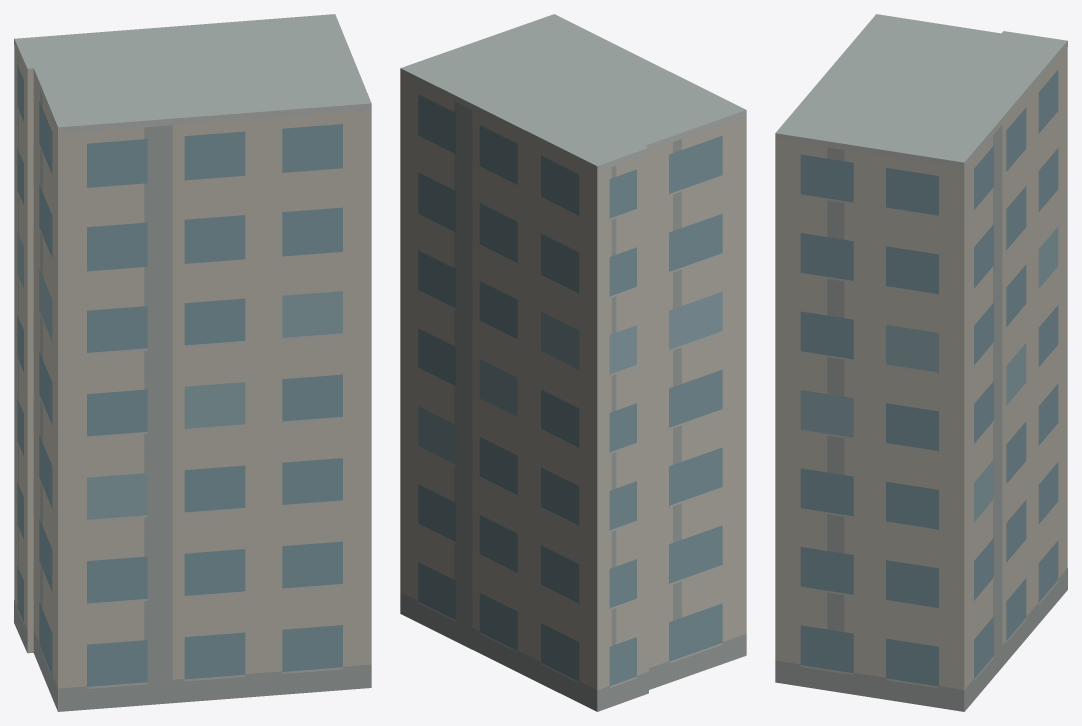
Rendered from survey-upis-32910097.glb.
The picture shows the model from 3 angles, left to right: view 1: azimuth 30°, elevation 25°; view 2: azimuth 150°, elevation 25°; view 3: azimuth 270°, elevation 25°; orthographic projection. The views are drawn at different scales.
Parts seen in each view (by area): view 1: survey-upis-32910097.tmp; view 2: survey-upis-32910097.tmp; view 3: survey-upis-32910097.tmp.
Part boxes in pixels (box(x1,y1,x2,y2)): survey-upis-32910097.tmp: box(14, 14, 371, 711); survey-upis-32910097.tmp: box(400, 14, 746, 711); survey-upis-32910097.tmp: box(775, 14, 1067, 711).
Size of the model in its own units: 12.48 by 21.5 by 10.38.
